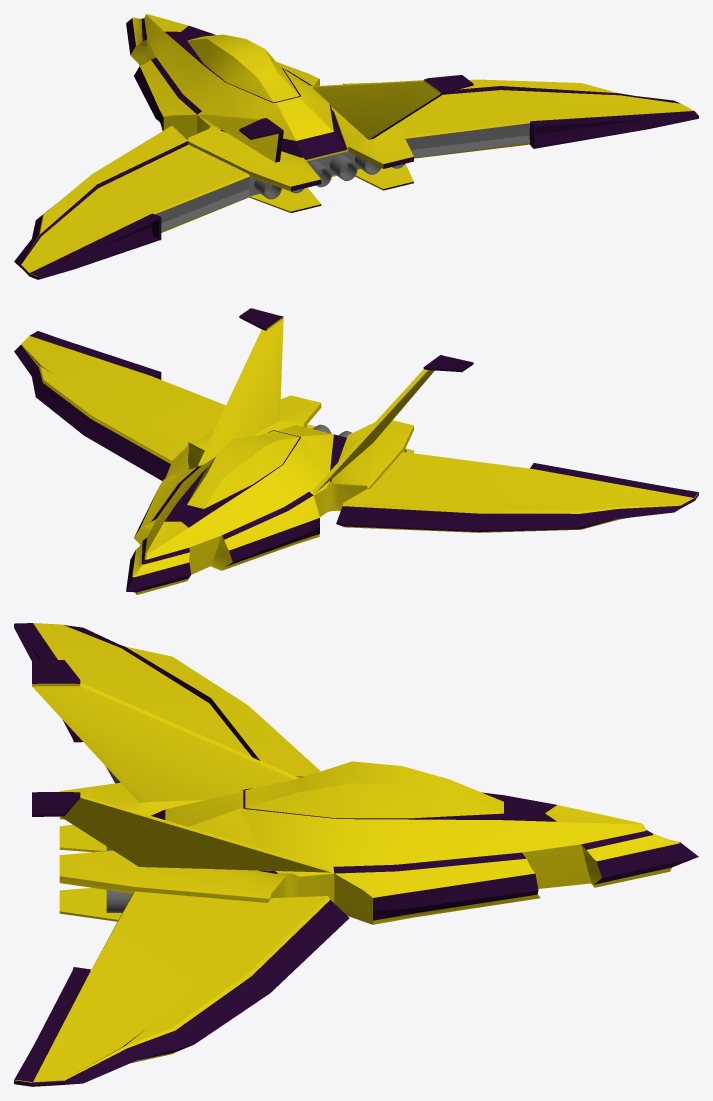
File: Fighter3.fbx
3 renders of one model, top to bottom at view 1: azimuth 30°, elevation 25°; view 2: azimuth 150°, elevation 25°; view 3: azimuth 270°, elevation 25°, orthographic. The views are drawn at different scales.
Parts seen in each view (by area): view 1: GutsWing; view 2: GutsWing; view 3: GutsWing.
Part boxes in pixels (x1,y1,x2,y2): GutsWing: (14,14,698,279); GutsWing: (14,308,698,594); GutsWing: (14,623,698,1086).
Size of the model in its own units: 250 by 34.32 by 157.
